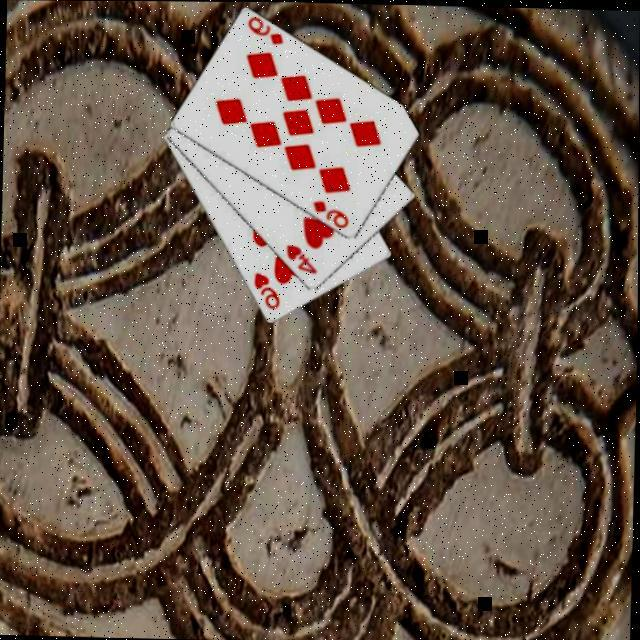4H: (281, 239, 318, 276)
9D: (307, 196, 350, 230), (242, 13, 284, 46)
9H: (248, 268, 281, 310)
